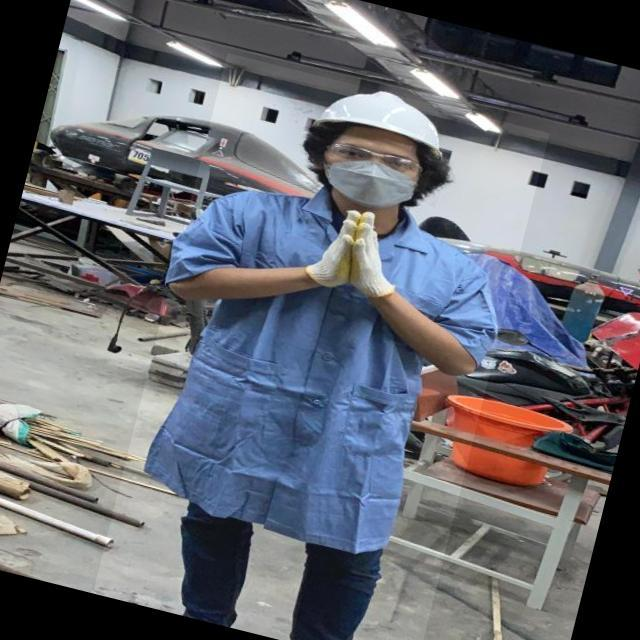Gloves: (310, 193, 355, 309), (358, 198, 403, 314)
Helmet: (304, 71, 462, 165)
Person: (134, 29, 536, 640)
no-vest: (147, 176, 491, 573)
